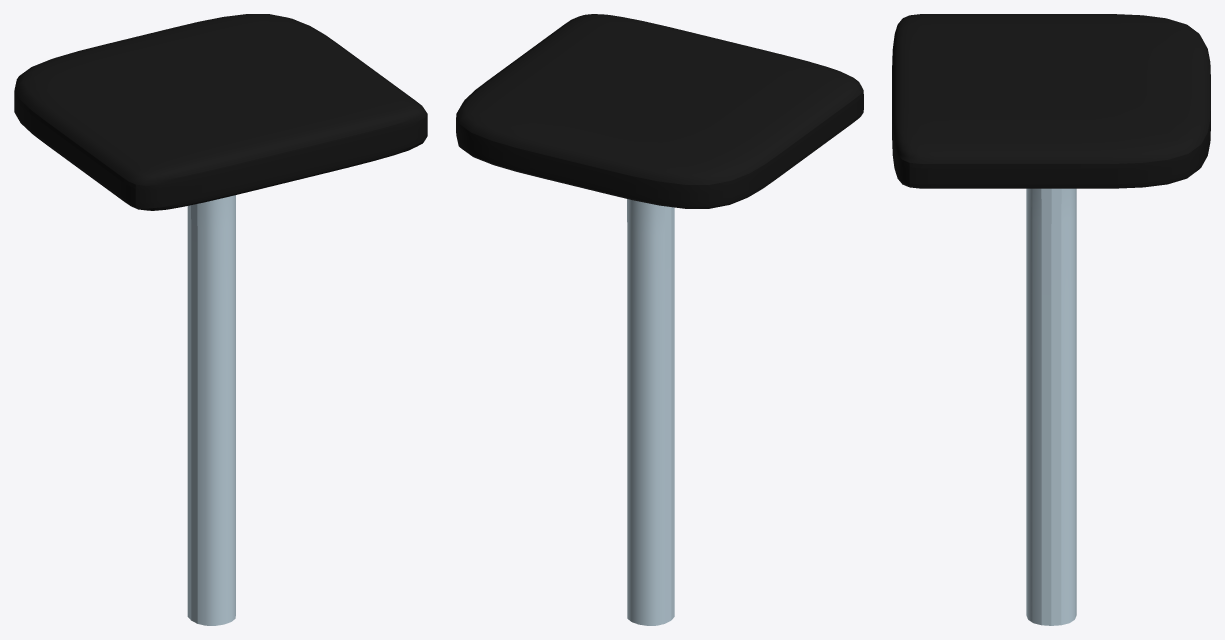
The model's file is EB_Seat.fbx.
The picture shows the model from 3 angles, left to right: view 1: azimuth 30°, elevation 25°; view 2: azimuth 150°, elevation 25°; view 3: azimuth 270°, elevation 25°; orthographic projection. The views are drawn at different scales.
Visible parts, largest first — view 1: Seat; view 2: Seat; view 3: Seat.
Part boxes in pixels (x1=…): Seat: x1=14, y1=14, x2=427, y2=625; Seat: x1=456, y1=14, x2=863, y2=625; Seat: x1=892, y1=14, x2=1210, y2=625.
Size of the model in its own units: 23.38 by 39.86 by 21.4.
